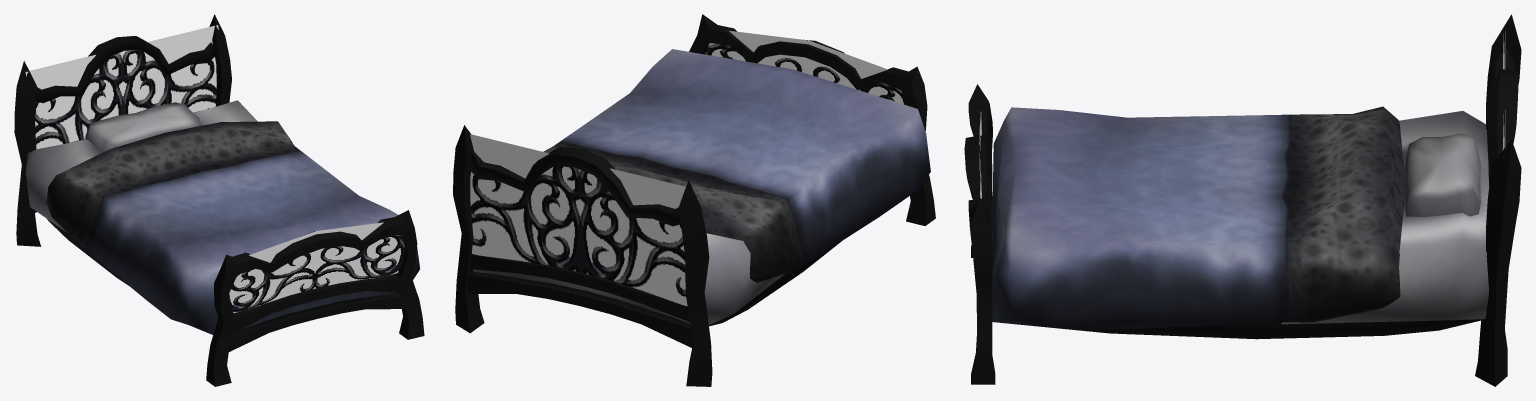
File: GothicBed_HD.fbx
The picture shows the model from 3 angles, left to right: view 1: azimuth 30°, elevation 25°; view 2: azimuth 150°, elevation 25°; view 3: azimuth 270°, elevation 25°; orthographic projection. The views are drawn at different scales.
Parts seen in each view (by area): view 1: GothicBed; view 2: GothicBed; view 3: GothicBed.
Part boxes in pixels (x1,y1,x2,y2): GothicBed: (14,14,424,386); GothicBed: (453,14,935,386); GothicBed: (964,14,1521,386).
Size of the model in its own units: 1.3 by 0.9184 by 1.94.
